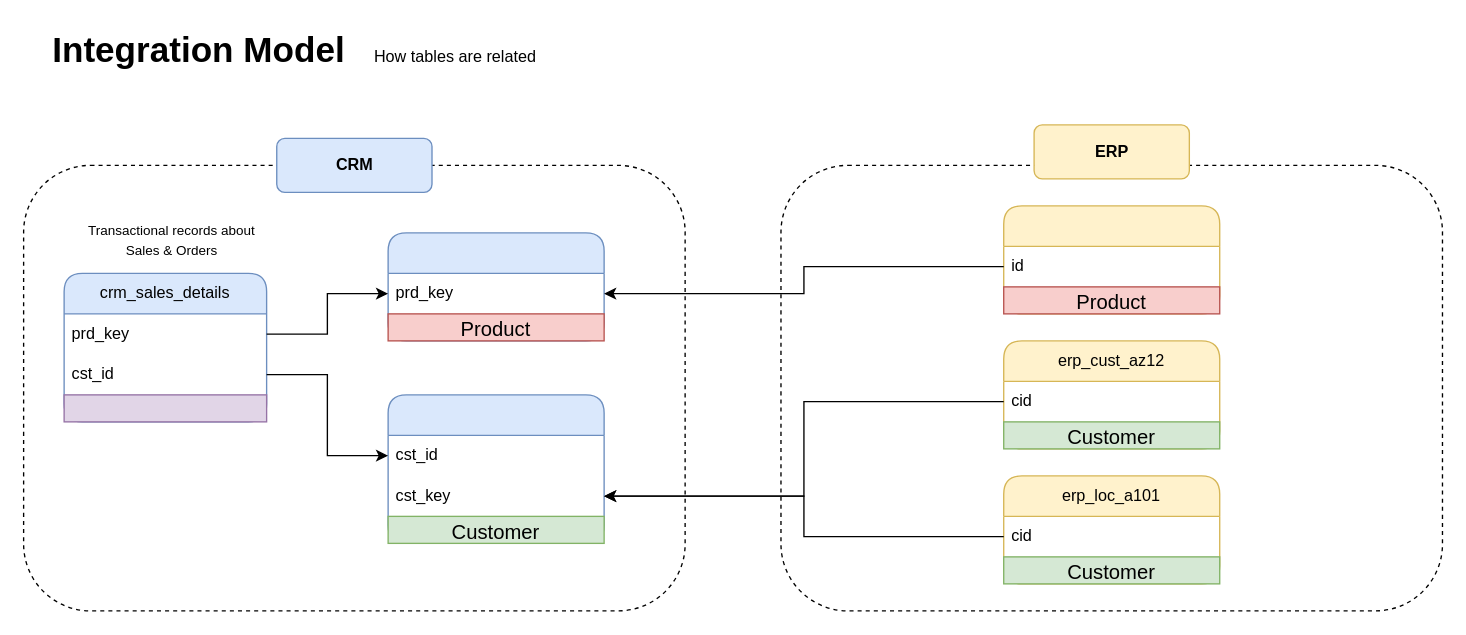
Image size: 1466x635. Some labels were removed from this diagram. The box of each missing label's shape, as (x1, y1, x2, y2) in pixels:
crm_cust_info: (387, 394, 604, 543)
crm_prod_info: (387, 232, 604, 341)
erp_px_cat_g1v2: (1002, 205, 1220, 314)
Sales: (63, 394, 267, 422)
